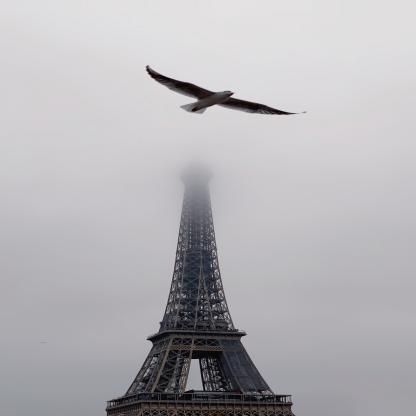bird: (144, 64, 310, 116)
